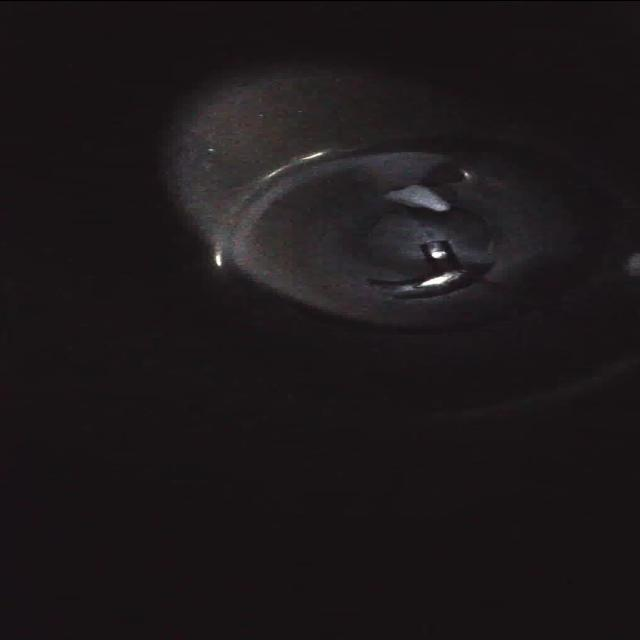impurity: (376, 178, 454, 218)
